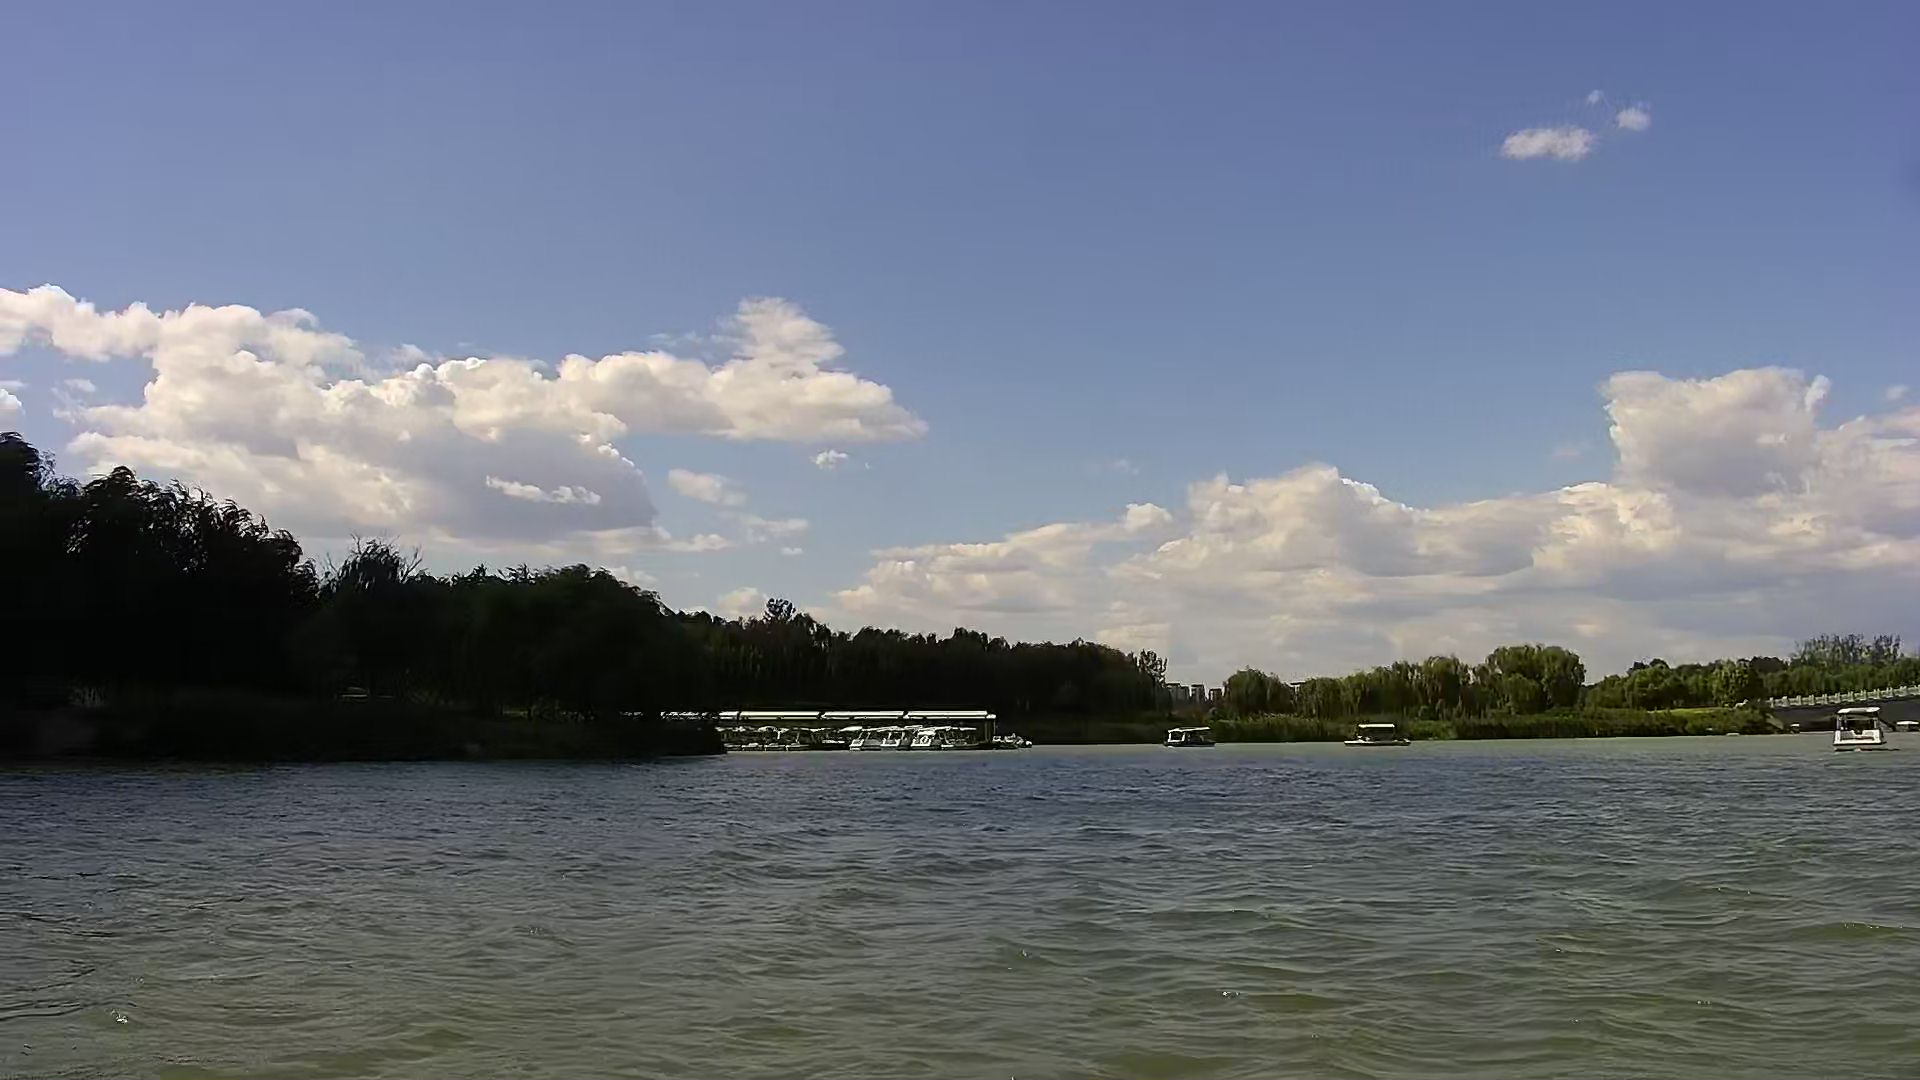boat: (1826, 700, 1905, 756), (913, 723, 992, 764), (1340, 720, 1412, 749), (1154, 725, 1221, 754), (841, 720, 891, 756), (881, 717, 919, 758)
bridge: (1760, 678, 1920, 719)
